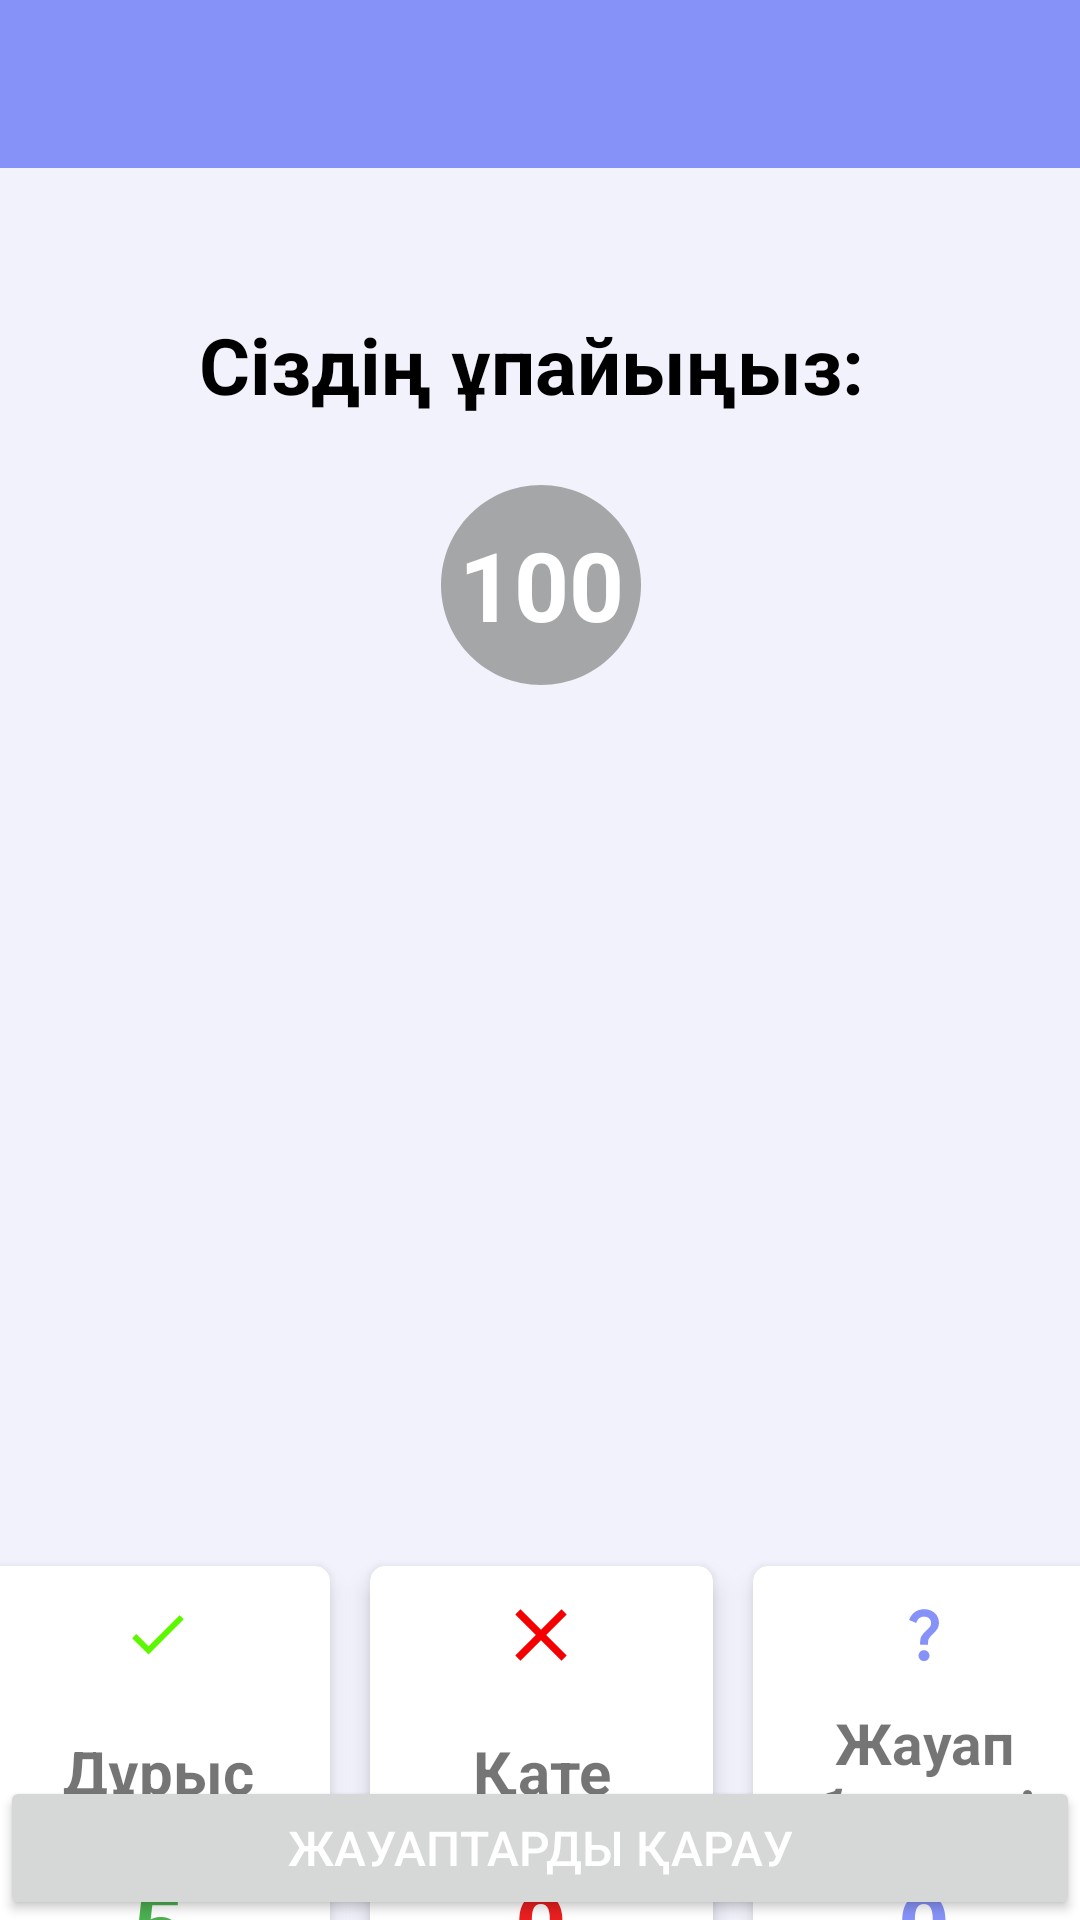

Icon click points for this 1080w x 1920h phone screenshot, format (x,y):
close: (541,1635)
correct: (158,1635)
question: (924,1635)
